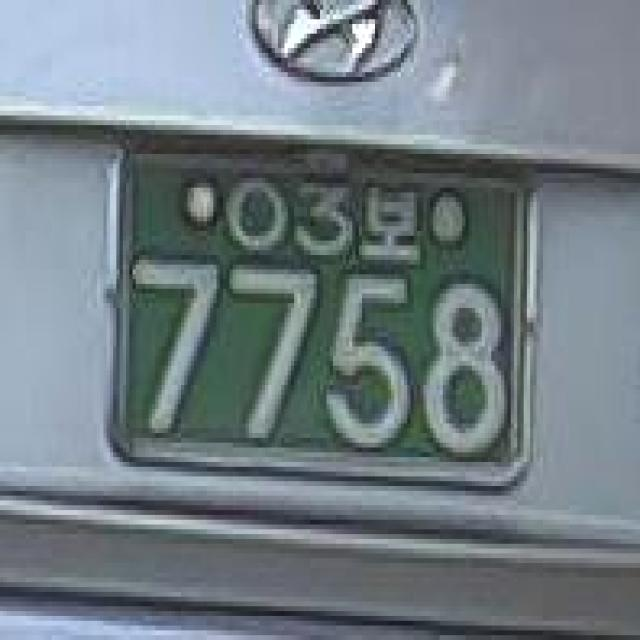illegal_plate: (89, 114, 551, 521)
